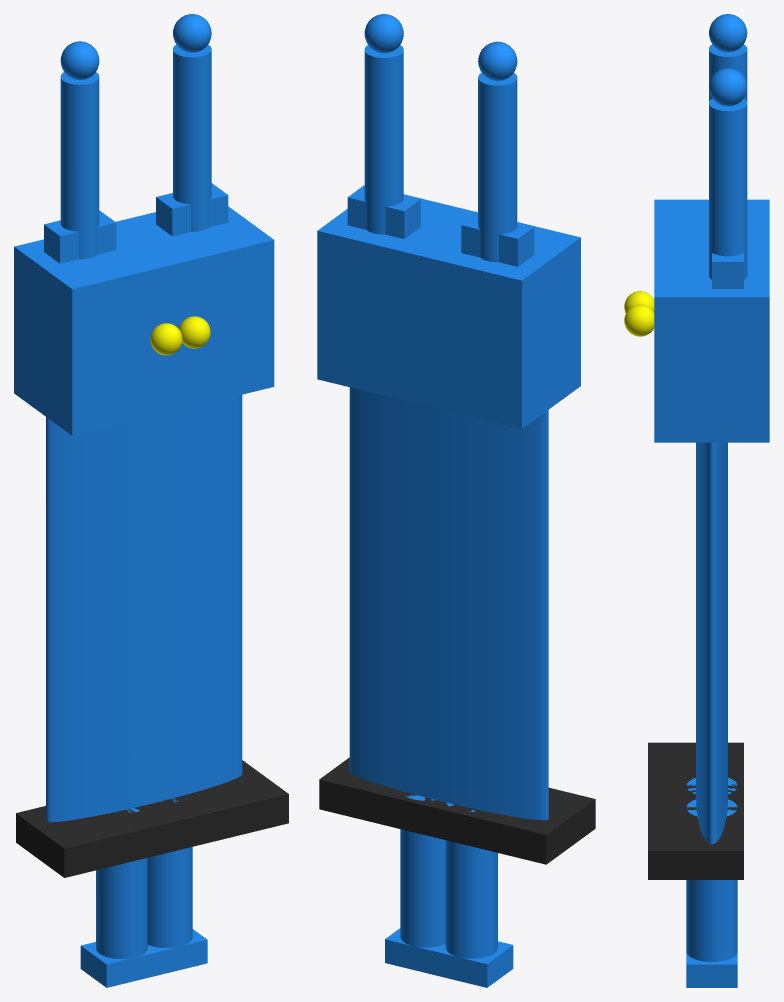
3 views of the same model, side by side, from view 1: azimuth 30°, elevation 25°; view 2: azimuth 150°, elevation 25°; view 3: azimuth 270°, elevation 25° (orthographic). The views are drawn at different scales.
Visible parts, largest first — view 1: spine_rod, head_block, base_plate, arm_l_upper, arm_r_upper, leg_l_shin, leg_r_shin, leg_l_foot, arm_r_base, arm_l_base, leg_r_foot, arm_r_end (+3 smaller); view 2: spine_rod, head_block, base_plate, arm_r_upper, arm_l_upper, leg_l_shin, leg_r_shin, leg_l_foot, arm_r_base, arm_l_base, leg_r_foot, arm_r_end (+1 smaller); view 3: head_block, spine_rod, base_plate, arm_r_upper, leg_r_shin, leg_r_foot, arm_l_end, arm_r_end, arm_r_base, arm_l_upper, eye_right, eye_left.
Boxes of the visible parts, <box> form: spine_rod: <box>46,395,242,822</box>; head_block: <box>14,206,274,435</box>; base_plate: <box>16,760,288,877</box>; arm_l_upper: <box>60,72,99,259</box>; arm_r_upper: <box>173,44,211,231</box>; leg_l_shin: <box>96,808,147,958</box>; leg_r_shin: <box>147,798,192,947</box>; leg_l_foot: <box>80,942,162,987</box>; arm_r_base: <box>156,183,228,236</box>; arm_l_base: <box>44,210,116,263</box>; leg_r_foot: <box>147,929,207,976</box>; arm_r_end: <box>173,14,211,52</box>; spine_rod: <box>349,387,548,820</box>; head_block: <box>317,194,580,429</box>; base_plate: <box>319,757,595,864</box>; arm_r_upper: <box>364,45,403,234</box>; arm_l_upper: <box>478,73,517,262</box>; leg_l_shin: <box>445,802,497,958</box>; leg_r_shin: <box>400,794,445,947</box>; leg_l_foot: <box>430,941,513,987</box>; arm_r_base: <box>347,185,420,238</box>; arm_l_base: <box>461,213,534,266</box>; leg_r_foot: <box>385,928,441,973</box>; arm_r_end: <box>364,14,403,53</box>; head_block: <box>654,199,769,442</box>; spine_rod: <box>696,442,727,844</box>; base_plate: <box>648,742,743,879</box>; arm_r_upper: <box>709,98,747,279</box>; leg_r_shin: <box>686,799,737,961</box>; leg_r_foot: <box>686,952,737,987</box>; arm_l_end: <box>709,14,747,52</box>; arm_r_end: <box>709,68,747,106</box>; arm_r_base: <box>712,253,743,288</box>; arm_l_upper: <box>709,44,747,101</box>; eye_right: <box>624,304,654,336</box>; eye_left: <box>624,291,654,313</box>.
Bounding box in the file's own units: 0.4 × 1.58 × 0.227.
